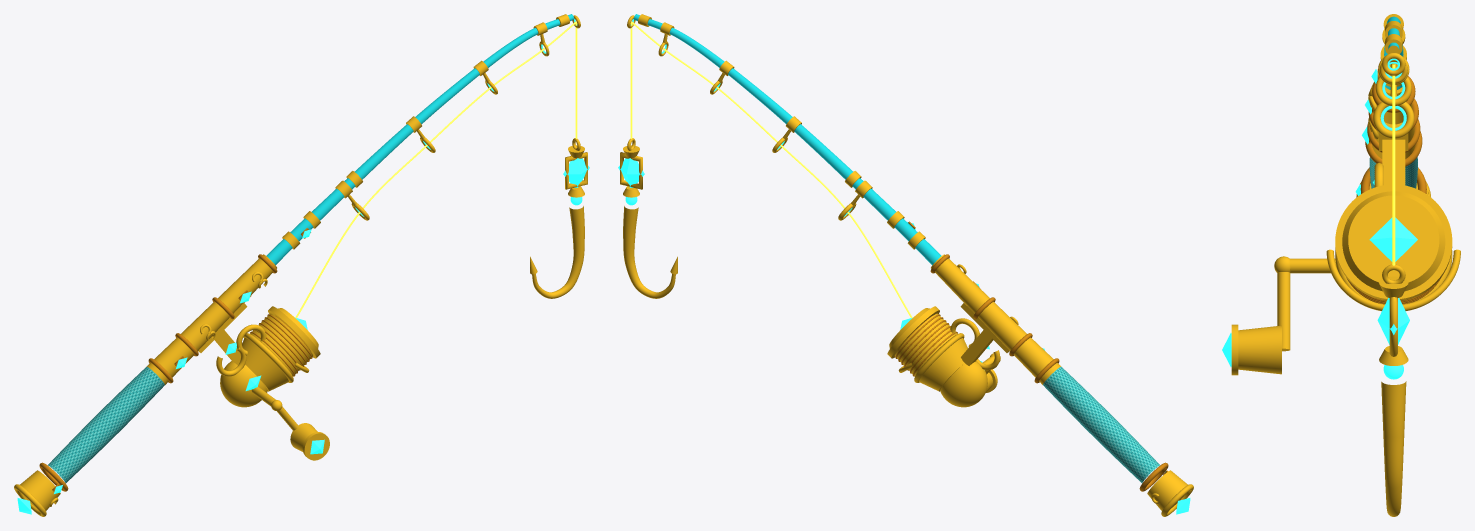
The model's file is rod_treasure.glb.
3 views of the same model, side by side, from view 1: azimuth 30°, elevation 25°; view 2: azimuth 150°, elevation 25°; view 3: azimuth 270°, elevation 25° (orthographic). The views are drawn at different scales.
Parts seen in each view (by area): view 1: grip, blank, gold_sleeve, reel_line_wrap, hook_body, reel_body, reel_rotor, line, butt_cap; view 2: grip, gold_sleeve, blank, reel_body, reel_line_wrap, hook_body, reel_rotor, line, butt_cap; view 3: reel_face, hook_body, reel_flange, reel_knob, reel_bail, reel_face_gem, reel_stem, reel_crank_arm, drop_line, guide0_ring, charm_gem, reel_axle (+14 smaller).
Boxes of the visible parts, x1,y1,x2,y2 form: grip: (48,366,164,483); blank: (266,14,574,265); gold_sleeve: (147,254,276,384); reel_line_wrap: (250,313,312,376); hook_body: (532,206,584,298); reel_body: (220,361,267,407); reel_rotor: (242,338,288,391); line: (295,21,576,318); butt_cap: (20,470,60,510); grip: (1043,366,1159,483); gold_sleeve: (931,254,1060,384); blank: (633,14,941,265); reel_body: (940,361,987,407); reel_line_wrap: (895,313,957,376); hook_body: (623,206,675,298); reel_rotor: (919,338,967,391); line: (631,21,912,318); butt_cap: (1147,470,1187,510); reel_face: (1342,191,1445,291); hook_body: (1381,381,1406,516); reel_flange: (1335,184,1452,300); reel_knob: (1238,325,1281,374); reel_bail: (1326,249,1460,311); reel_face_gem: (1369,217,1417,261); reel_stem: (1382,139,1405,185); reel_crank_arm: (1277,272,1290,351); drop_line: (1392,64,1395,270); guide0_ring: (1373,102,1414,138); charm_gem: (1377,298,1409,344); reel_axle: (1290,258,1336,273).
Size of the model in its own units: 2.3 by 1.43 by 0.4843.
Materials: 6 (1 with a texture image).
